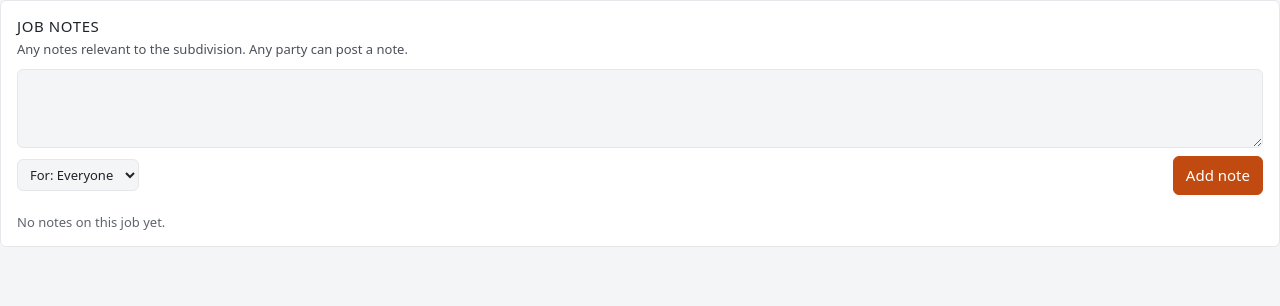
Test case: JobNotes › adds a note with the chosen audience label, clears the box and reloads the list
Expected: the text "No notes on this job yet." is shown, [17,212,165,230]
Type "Fresh" into the text box named "New job note" at [640, 108], box [17,69,1263,148]
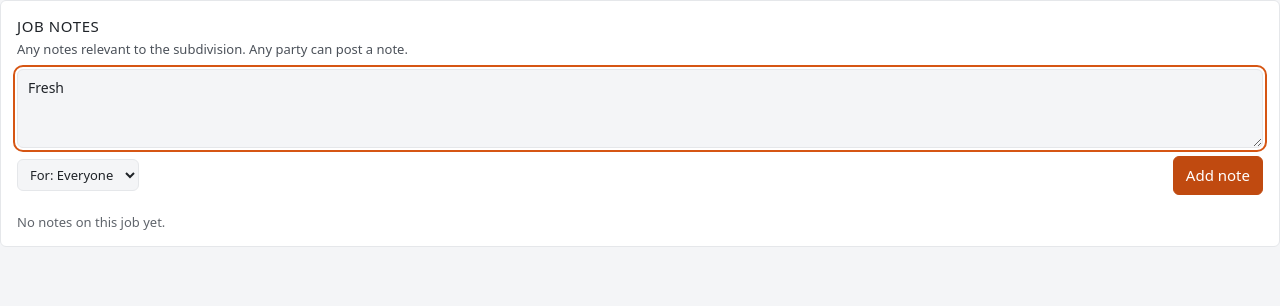
Select "For: Client" in the dropdown named "Note is for" at [78, 175], box [17,159,139,191]
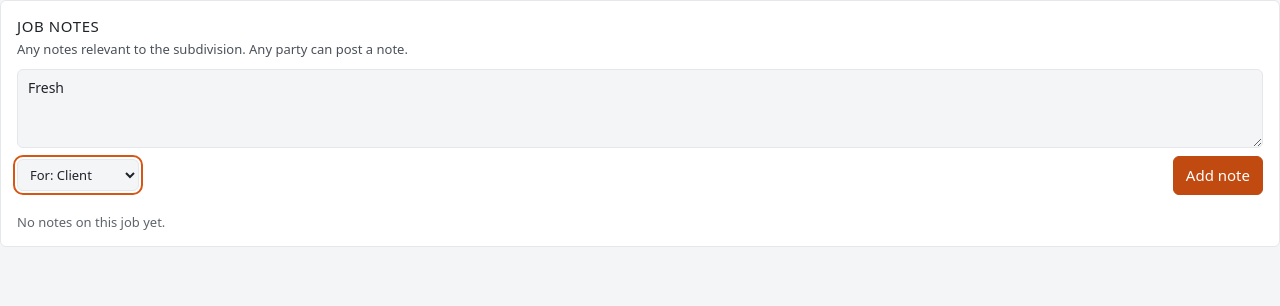
Click the button "Add note" at [1218, 175], box [1173,156,1263,194]
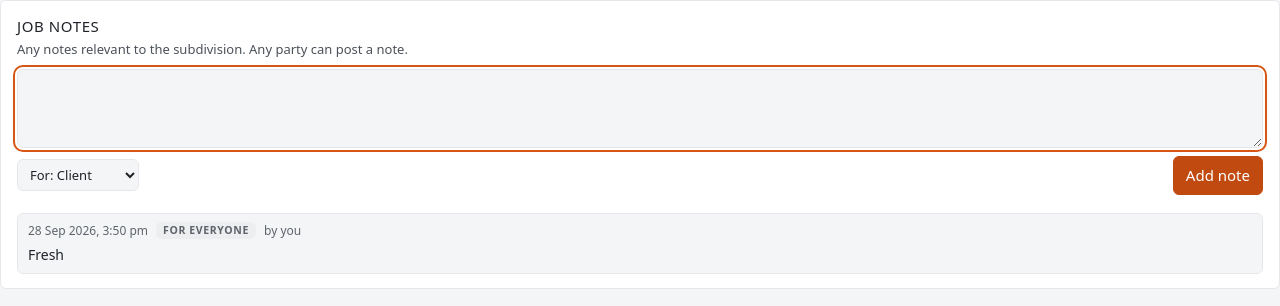
Result: the text "Fresh" is shown at [28,244,64,264]
Result: the text box named "New job note" is empty at [17,69,1263,148]
